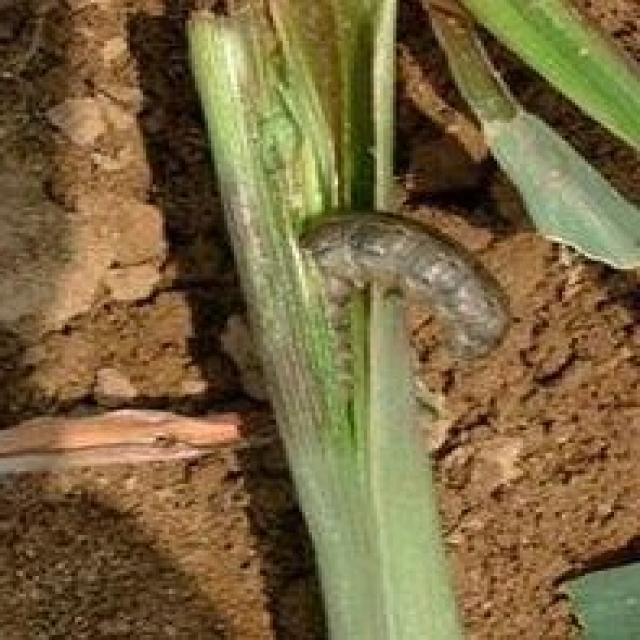black cutworm: (295, 210, 526, 366)
